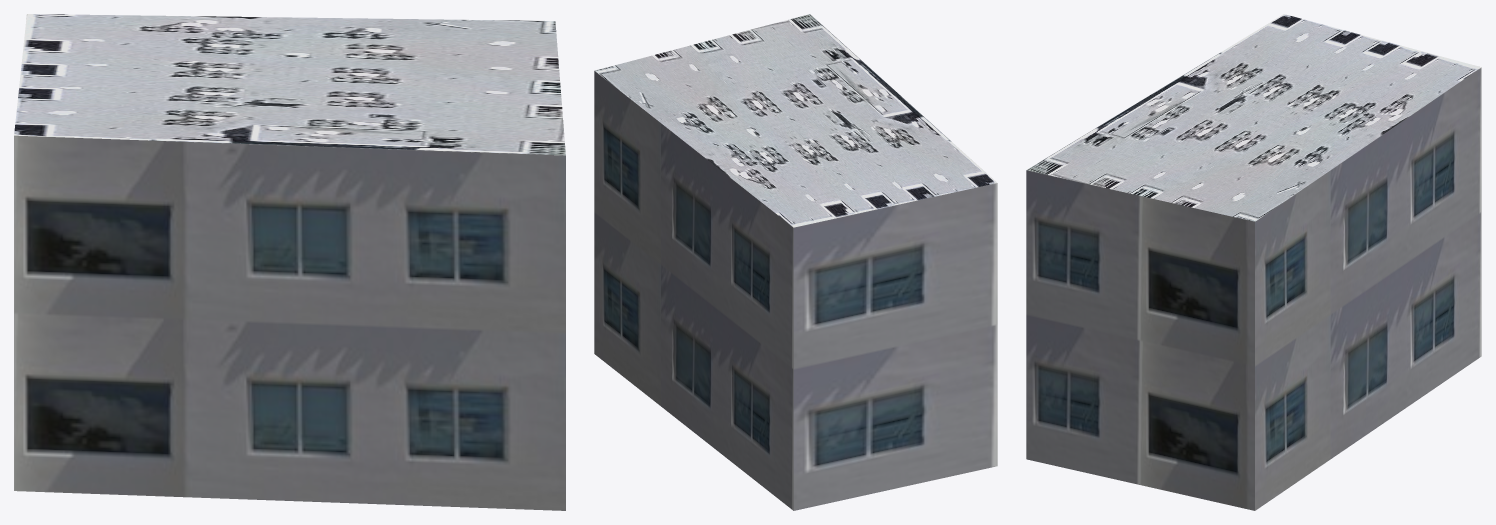
File: ResTex__3285.fbx
The picture shows the model from 3 angles, left to right: view 1: azimuth 30°, elevation 25°; view 2: azimuth 150°, elevation 25°; view 3: azimuth 270°, elevation 25°; orthographic projection. The views are drawn at different scales.
Parts seen in each view (by area): view 1: CityEngineMaterial_10_m, CityEngineMaterial_4_m; view 2: CityEngineMaterial_10_m, CityEngineMaterial_4_m; view 3: CityEngineMaterial_10_m, CityEngineMaterial_4_m.
Part boxes in pixels (x1,y1,x2,y2): CityEngineMaterial_10_m: (14,135,565,510); CityEngineMaterial_4_m: (14,14,565,155); CityEngineMaterial_10_m: (594,71,997,510); CityEngineMaterial_4_m: (595,14,996,227); CityEngineMaterial_10_m: (1026,67,1481,510); CityEngineMaterial_4_m: (1026,14,1480,221).
Size of the model in its own units: 9.25 by 6 by 8.56.
2 materials, 2 textured.
